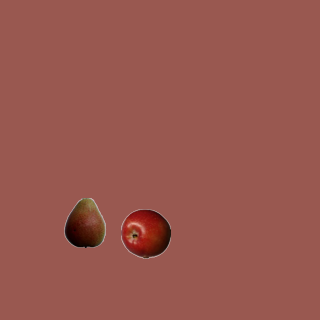Apple Braeburn: (120, 208, 170, 258)
Pear Forelle: (59, 197, 109, 247)
